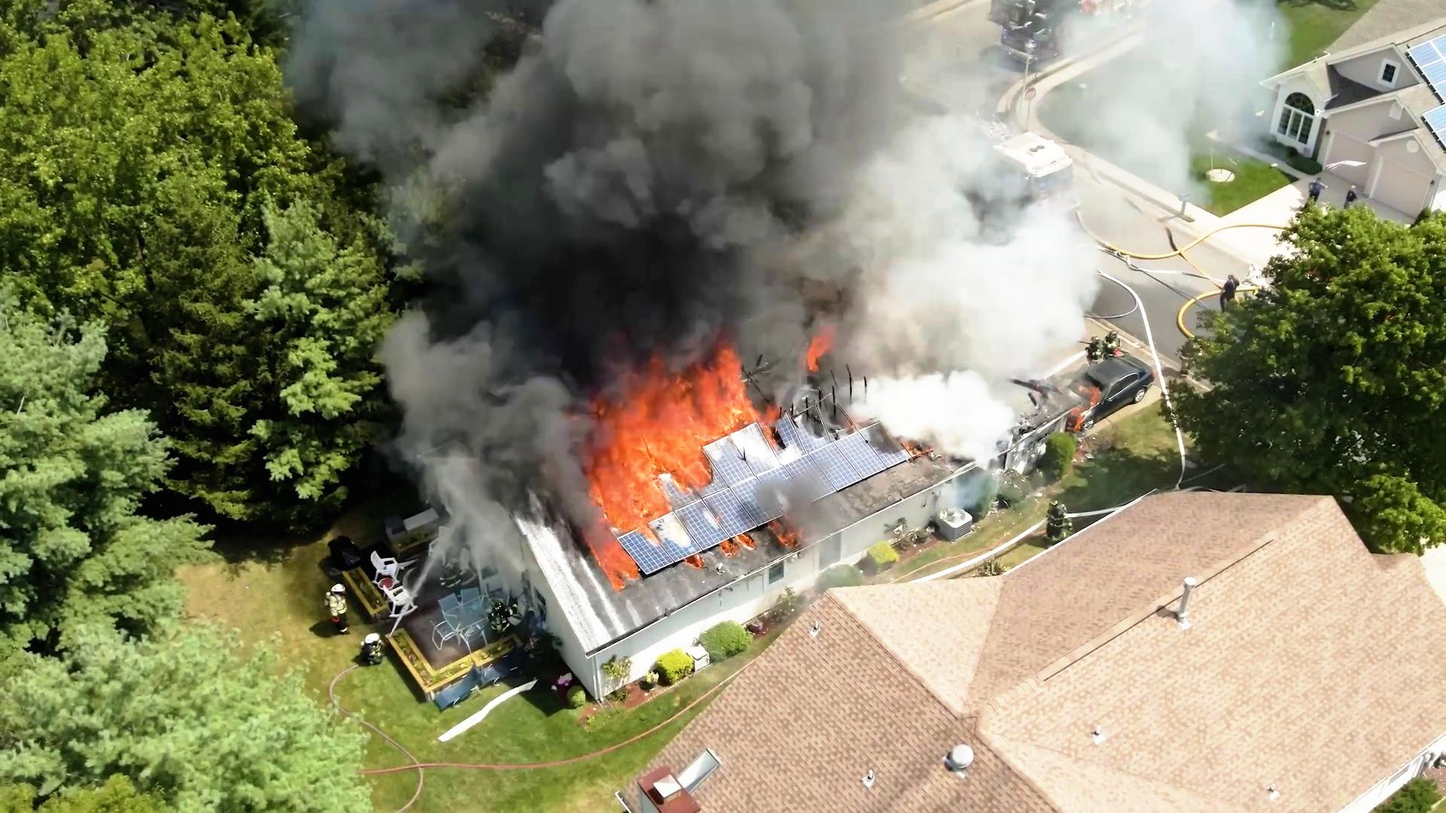fire: (850, 157, 1064, 435), (581, 365, 744, 545)
